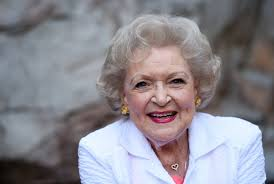s.white: (166, 89, 194, 120)
